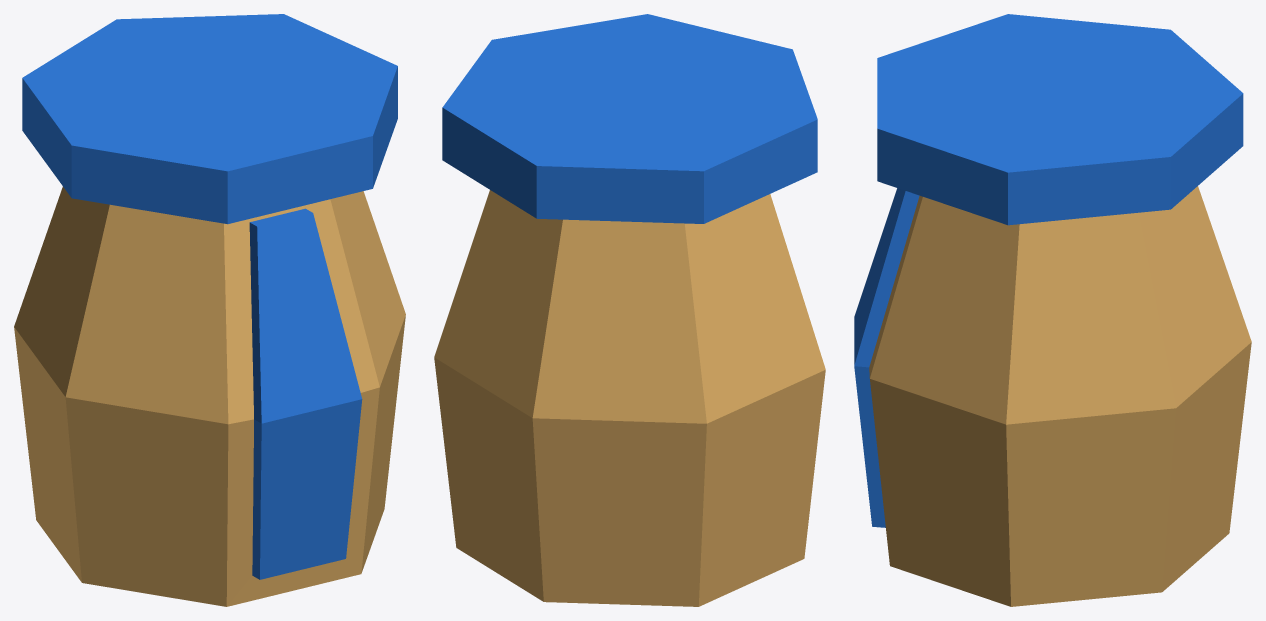
File: Jar2.glb
The picture shows the model from 3 angles, left to right: view 1: azimuth 30°, elevation 25°; view 2: azimuth 150°, elevation 25°; view 3: azimuth 270°, elevation 25°; orthographic projection.
Parts seen in each view (by area): view 1: Cylinder.004; view 2: Cylinder.004; view 3: Cylinder.004.
Part boxes in pixels (<box>): Cylinder.004: <box>14,14,405,606</box>; Cylinder.004: <box>434,14,825,606</box>; Cylinder.004: <box>854,14,1251,606</box>.
Bounding box in the file's own units: 0.1721 × 0.2133 × 0.1746.
